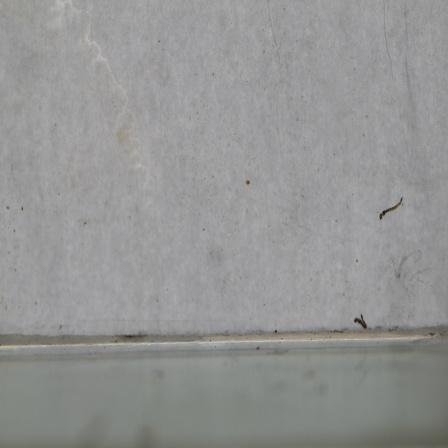Jentik-Nyamuk: (376, 193, 407, 225), (350, 309, 371, 332)
